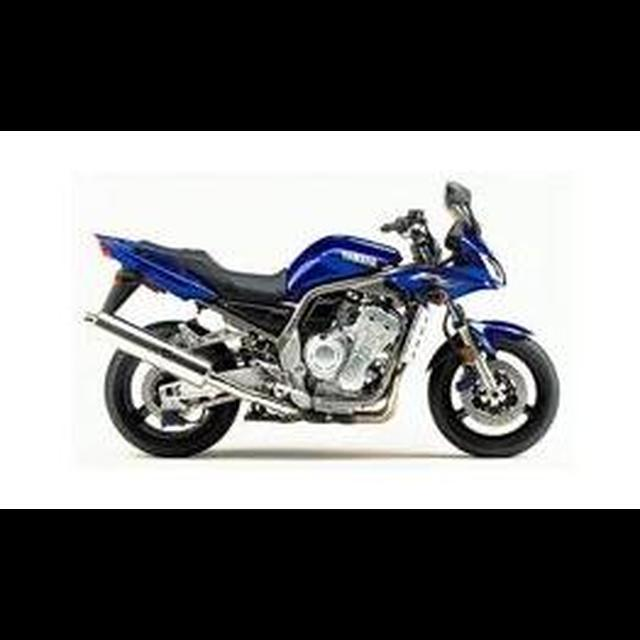motorcycle: (75, 171, 564, 462)
